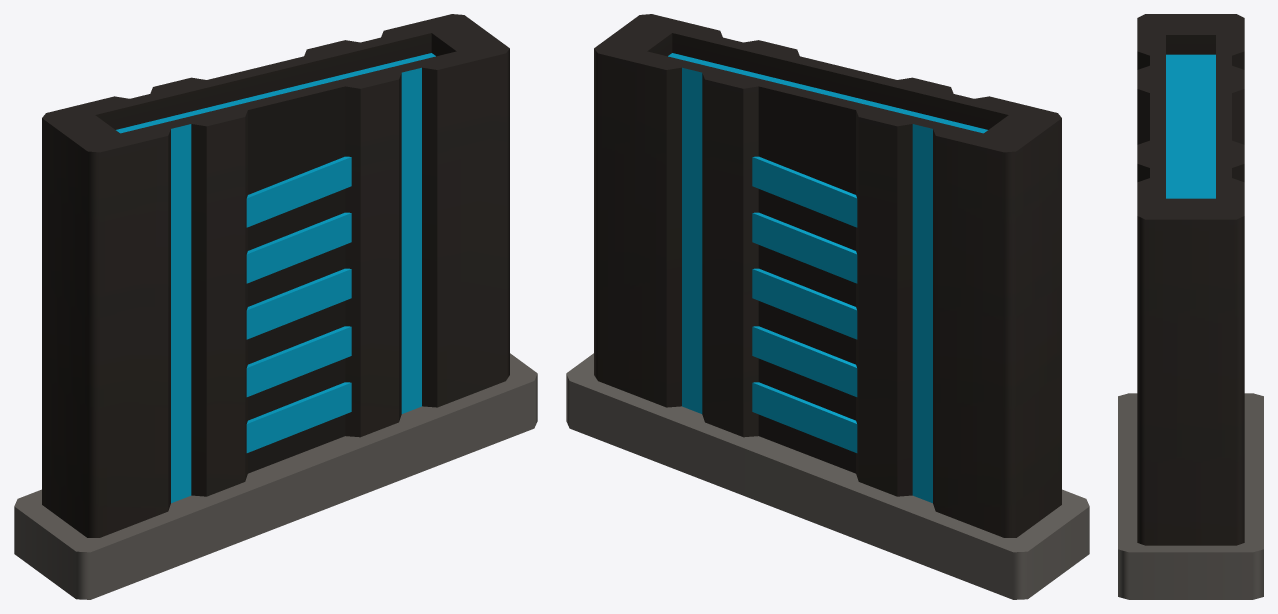
File: SR3_MagazineExtended.fbx
The picture shows the model from 3 angles, left to right: view 1: azimuth 30°, elevation 25°; view 2: azimuth 150°, elevation 25°; view 3: azimuth 270°, elevation 25°; orthographic projection.
Visible parts, largest first — view 1: SR3_MagazineExtended; view 2: SR3_MagazineExtended; view 3: SR3_MagazineExtended.
Part boxes in pixels (x1=…): SR3_MagazineExtended: x1=14, y1=14, x2=537, y2=599; SR3_MagazineExtended: x1=566, y1=14, x2=1089, y2=599; SR3_MagazineExtended: x1=1118, y1=14, x2=1263, y2=599.
Bounding box in the file's own units: 12.53 × 11.34 × 3.44.
